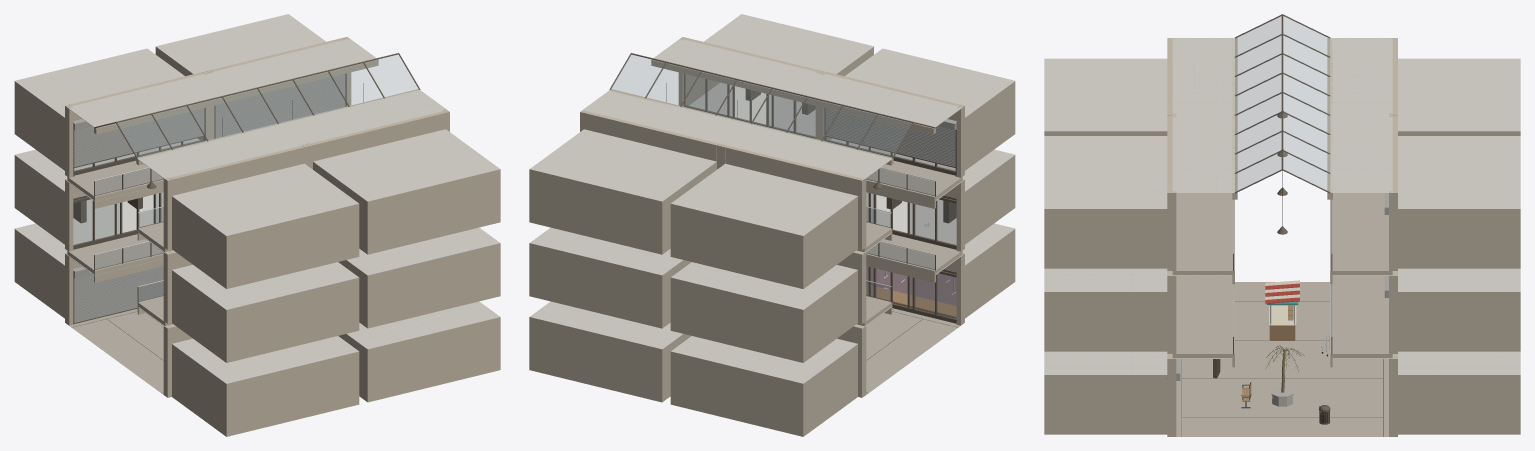
File: concourse_b.glb
3 renders of one model, left to right at view 1: azimuth 30°, elevation 25°; view 2: azimuth 150°, elevation 25°; view 3: azimuth 270°, elevation 25°, orthographic. The views are drawn at different scales.
Parts seen in each view (by area): view 1: concourse_b; view 2: concourse_b; view 3: concourse_b.
Boxes of the visible parts, x1,y1,x2,y2 form: concourse_b: (14,14,500,436); concourse_b: (529,14,1015,436); concourse_b: (1044,14,1520,436).
Size of what is drawn, in the model's own units: 20.07 by 16.15 by 26.01.
